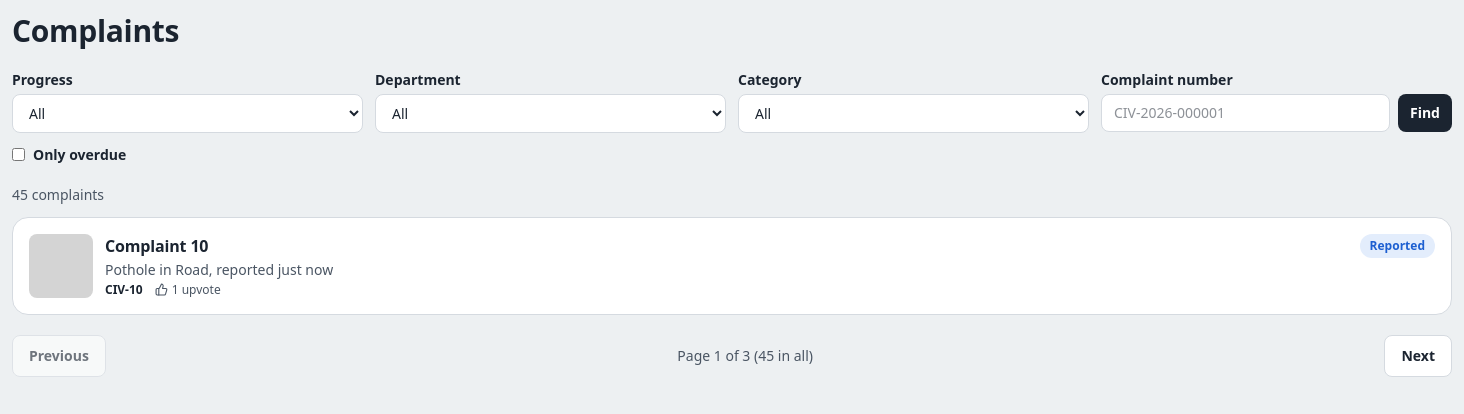
Test: admin complaints list › pages through the results and starts at page 1 after a filter change
expect the heading "Complaint 10" is shown: met, box x1=105 y1=234 x2=208 y2=258
expect the text "Page 1 of 3 (45 in all)" is shown: met, box x1=677 y1=346 x2=813 y2=366
Click the button "Next".
click(1418, 356)  # box x1=1384 y1=334 x2=1452 y2=376
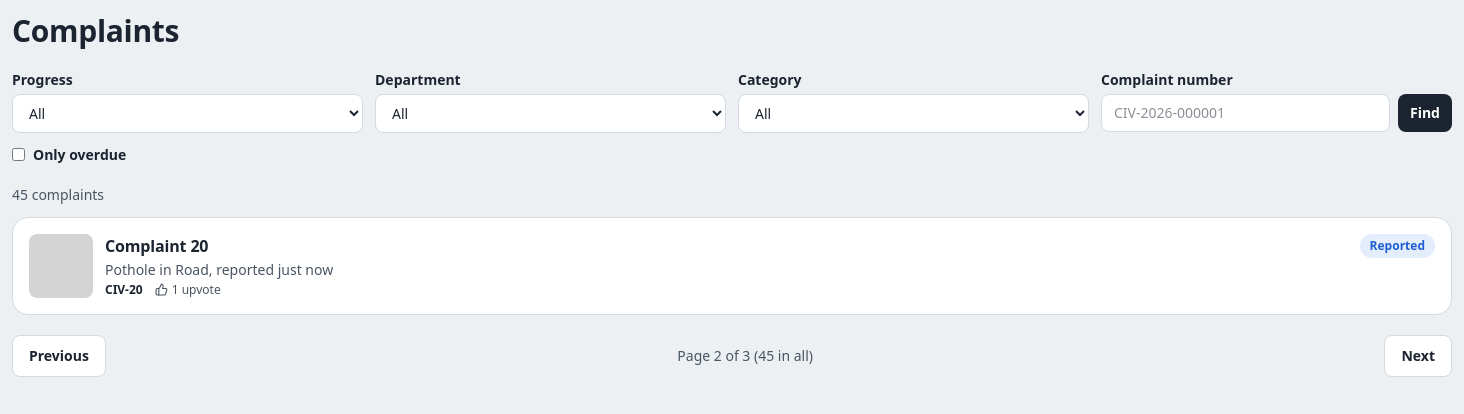
expect the heading "Complaint 20" is shown: met, box x1=105 y1=234 x2=208 y2=258
Click the button "Next".
click(1418, 356)  # box x1=1384 y1=334 x2=1452 y2=376
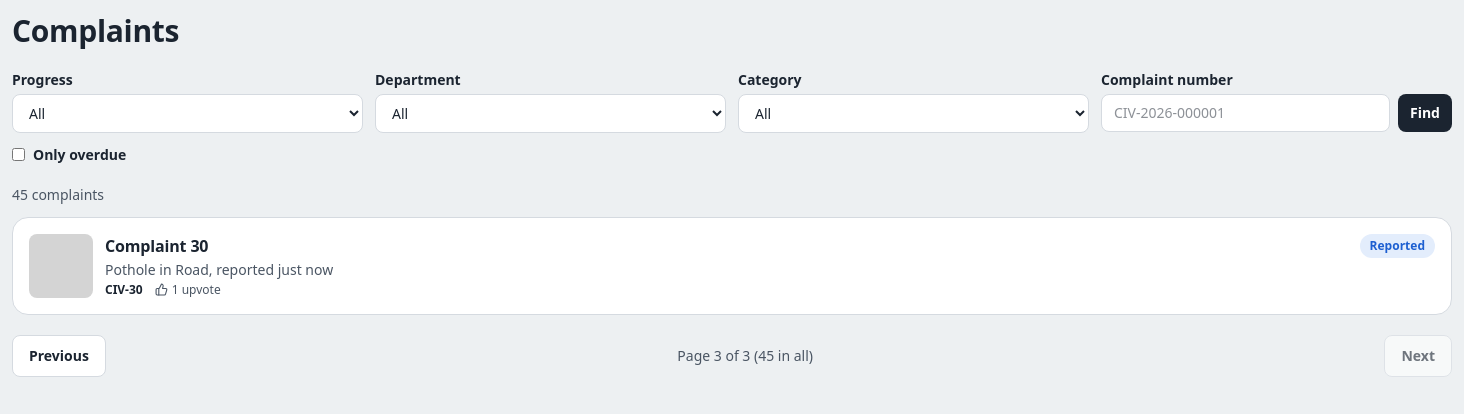
expect the heading "Complaint 30" is shown: met, box x1=105 y1=234 x2=208 y2=258
expect the button "Next" is disabled: met, box x1=1384 y1=334 x2=1452 y2=376
Select "Resolved" in the dropdown labelled "Progress" at (188, 113), box x1=12 y1=94 x2=363 y2=132
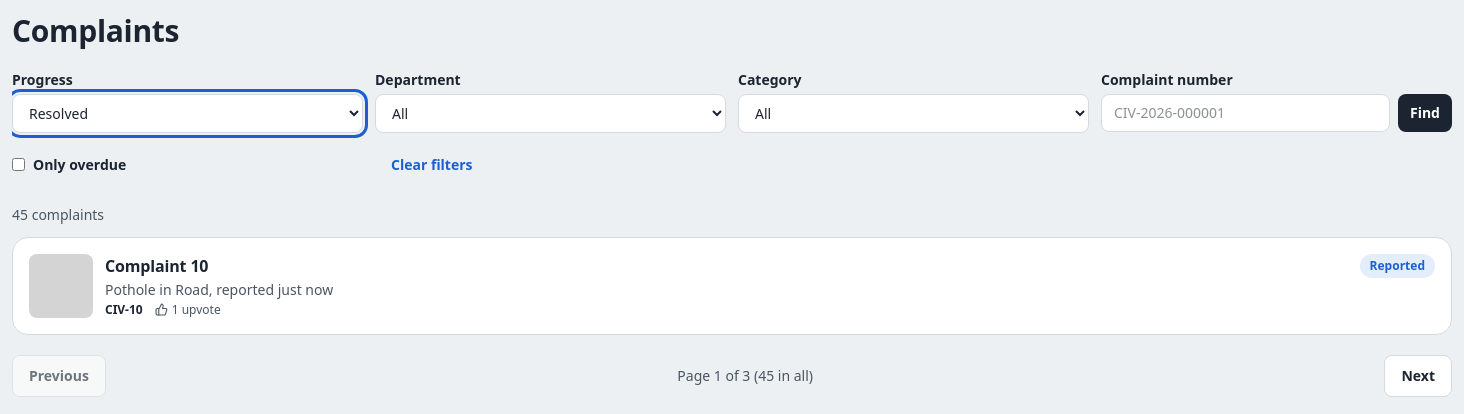
expect the text "Page 1 of 3 (45 in all)" is shown: met, box x1=677 y1=366 x2=813 y2=386
